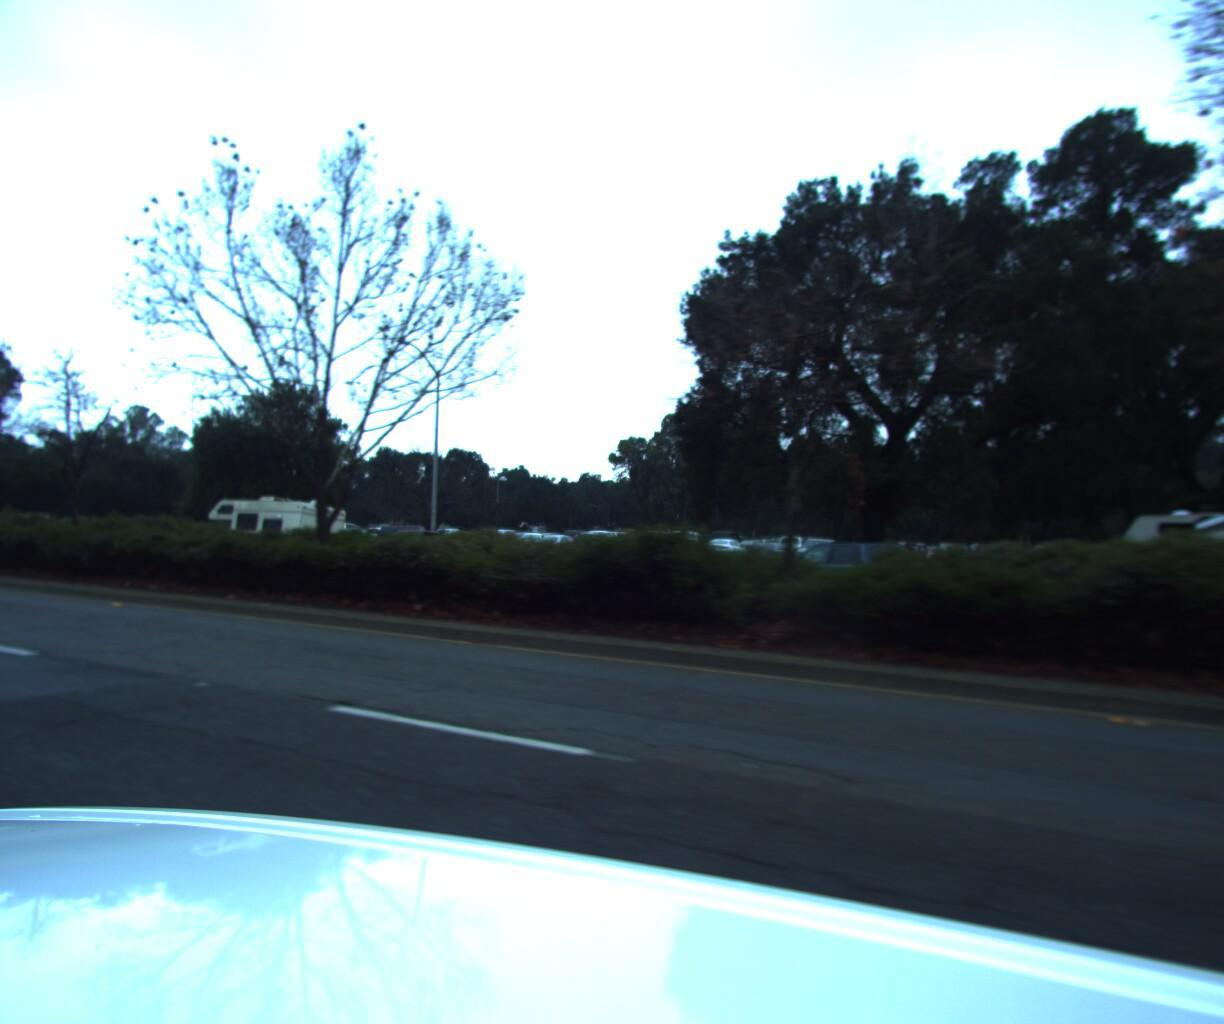car: (776, 531, 927, 590), (379, 523, 495, 567)
other_vehicle: (1117, 485, 1224, 661), (200, 487, 349, 540)
